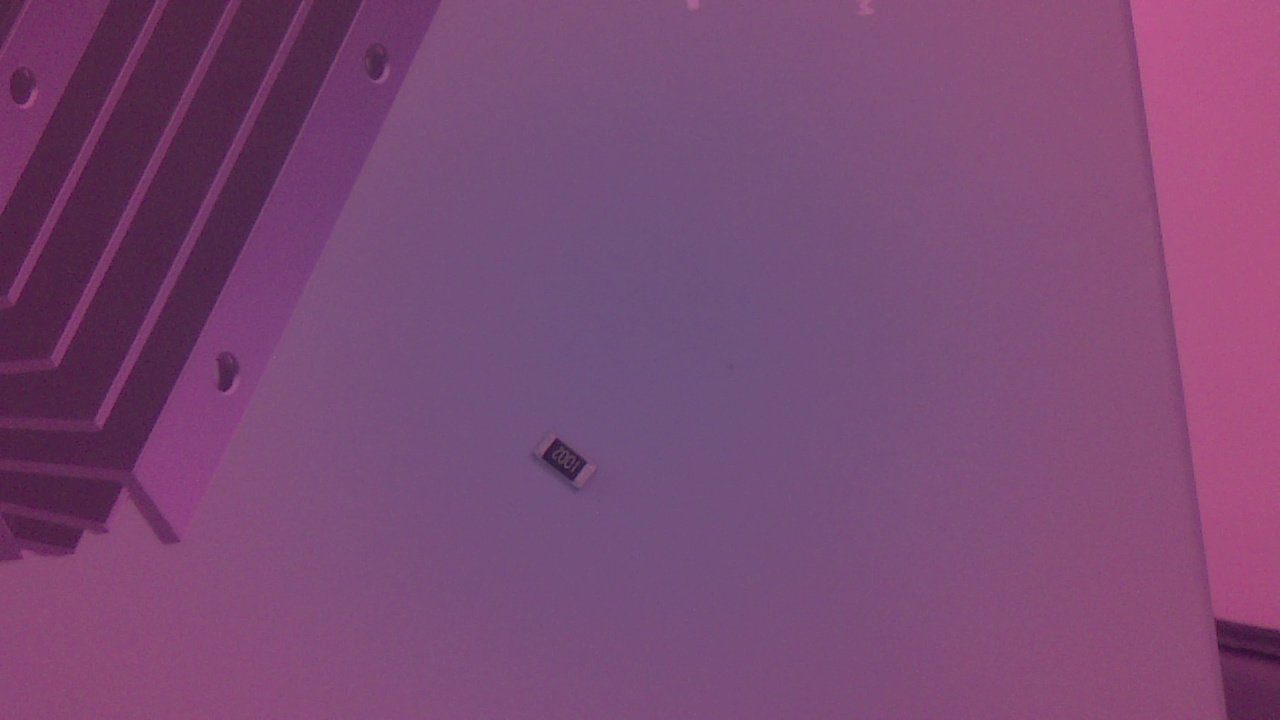Resistor: (534, 427, 607, 501)
